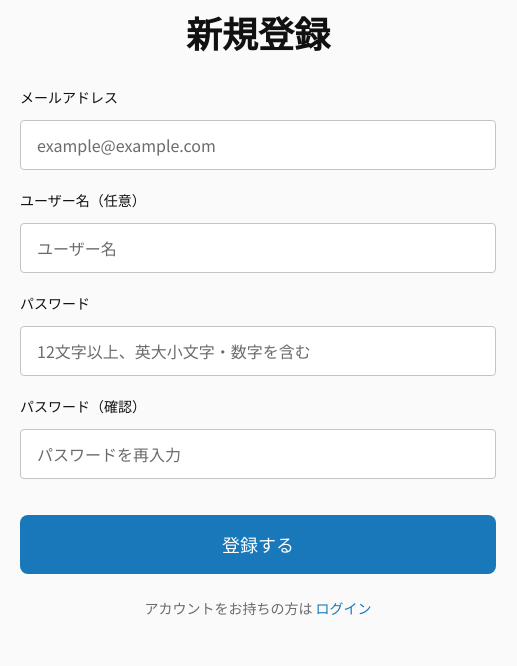
Test: RegisterForm › パスワードが短すぎるとバリデーションエラーが表示される
Type "test@example.com" into the field labelled "メールアドレス" at [258, 145], box [20, 120, 496, 170]
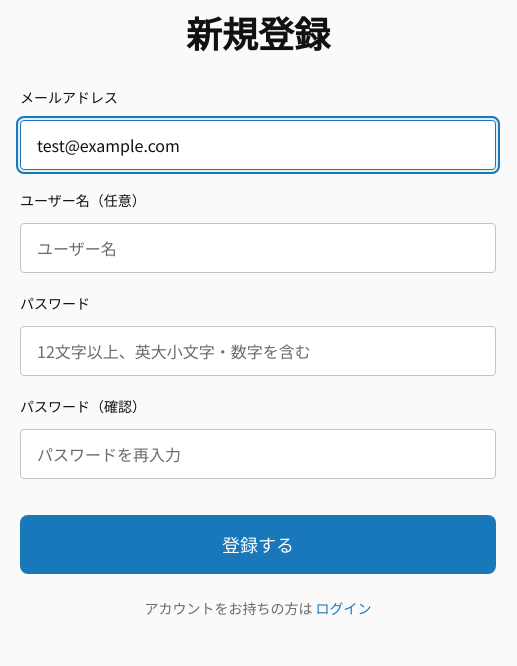
Type "Pw1" into the password field labelled "パスワード" at [258, 351], box [20, 326, 496, 376]
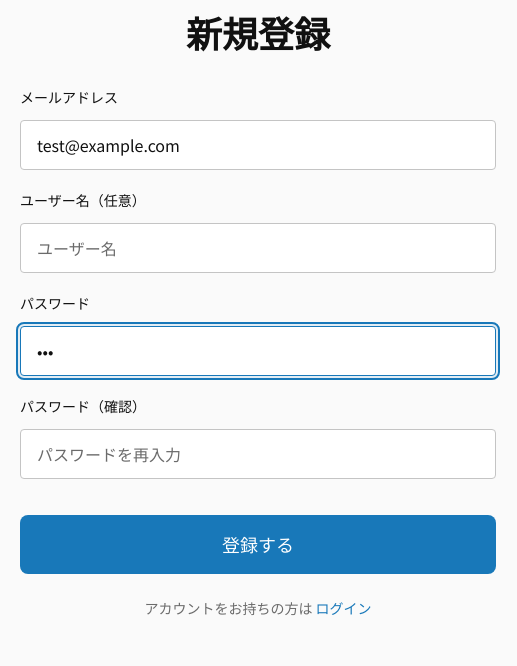
Type "Pw1" into the password field labelled "パスワード（確認）" at [258, 454], box [20, 429, 496, 479]
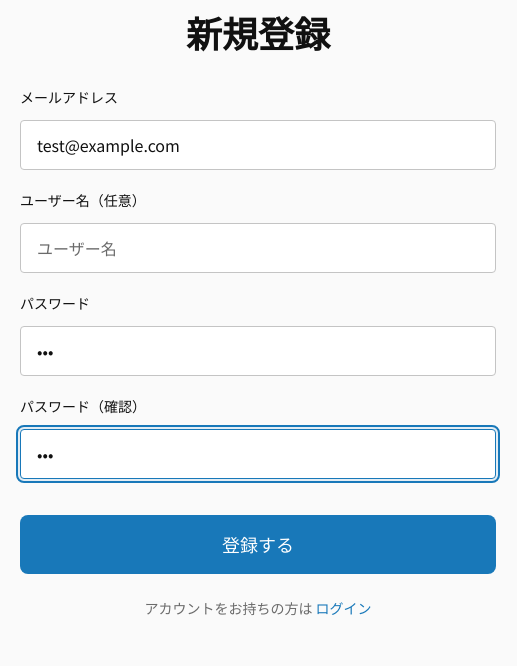
Click the button "登録する" at [258, 544], box [20, 515, 496, 574]
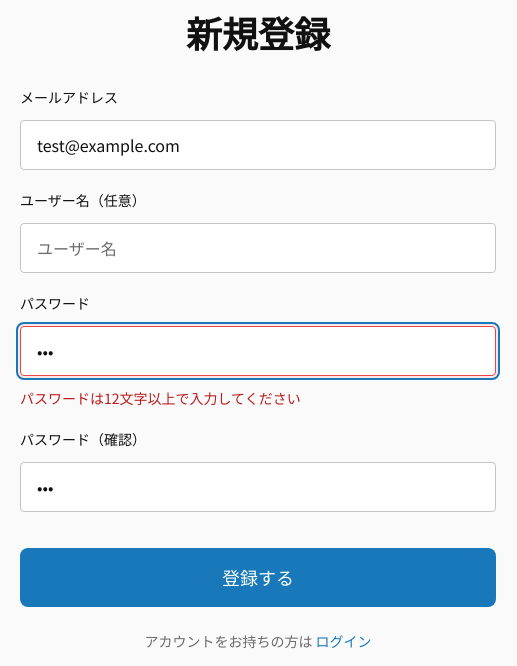
Result: the text "パスワードは12文字以上で入力してください" is shown at [20, 388, 301, 408]
